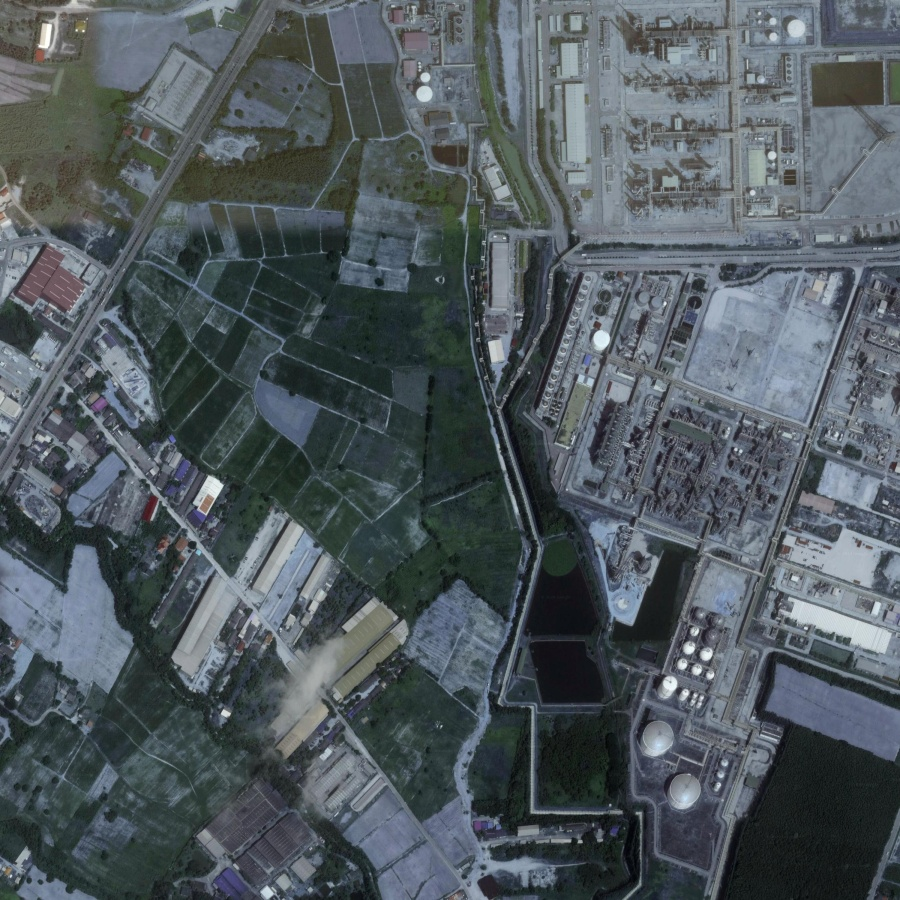PowerPlant: (550, 363, 802, 822)
